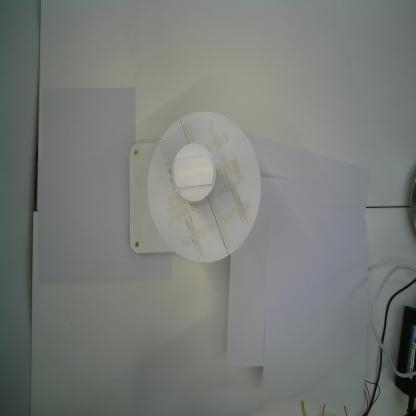Canned Food: (171, 142, 218, 208)
